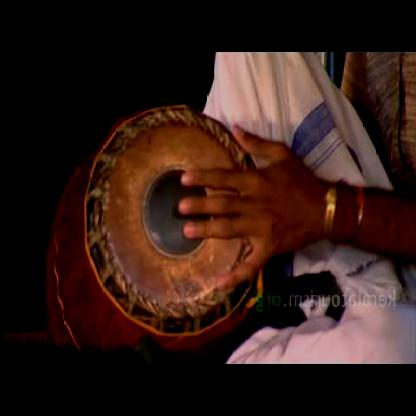Mridangam: (32, 96, 269, 355)
